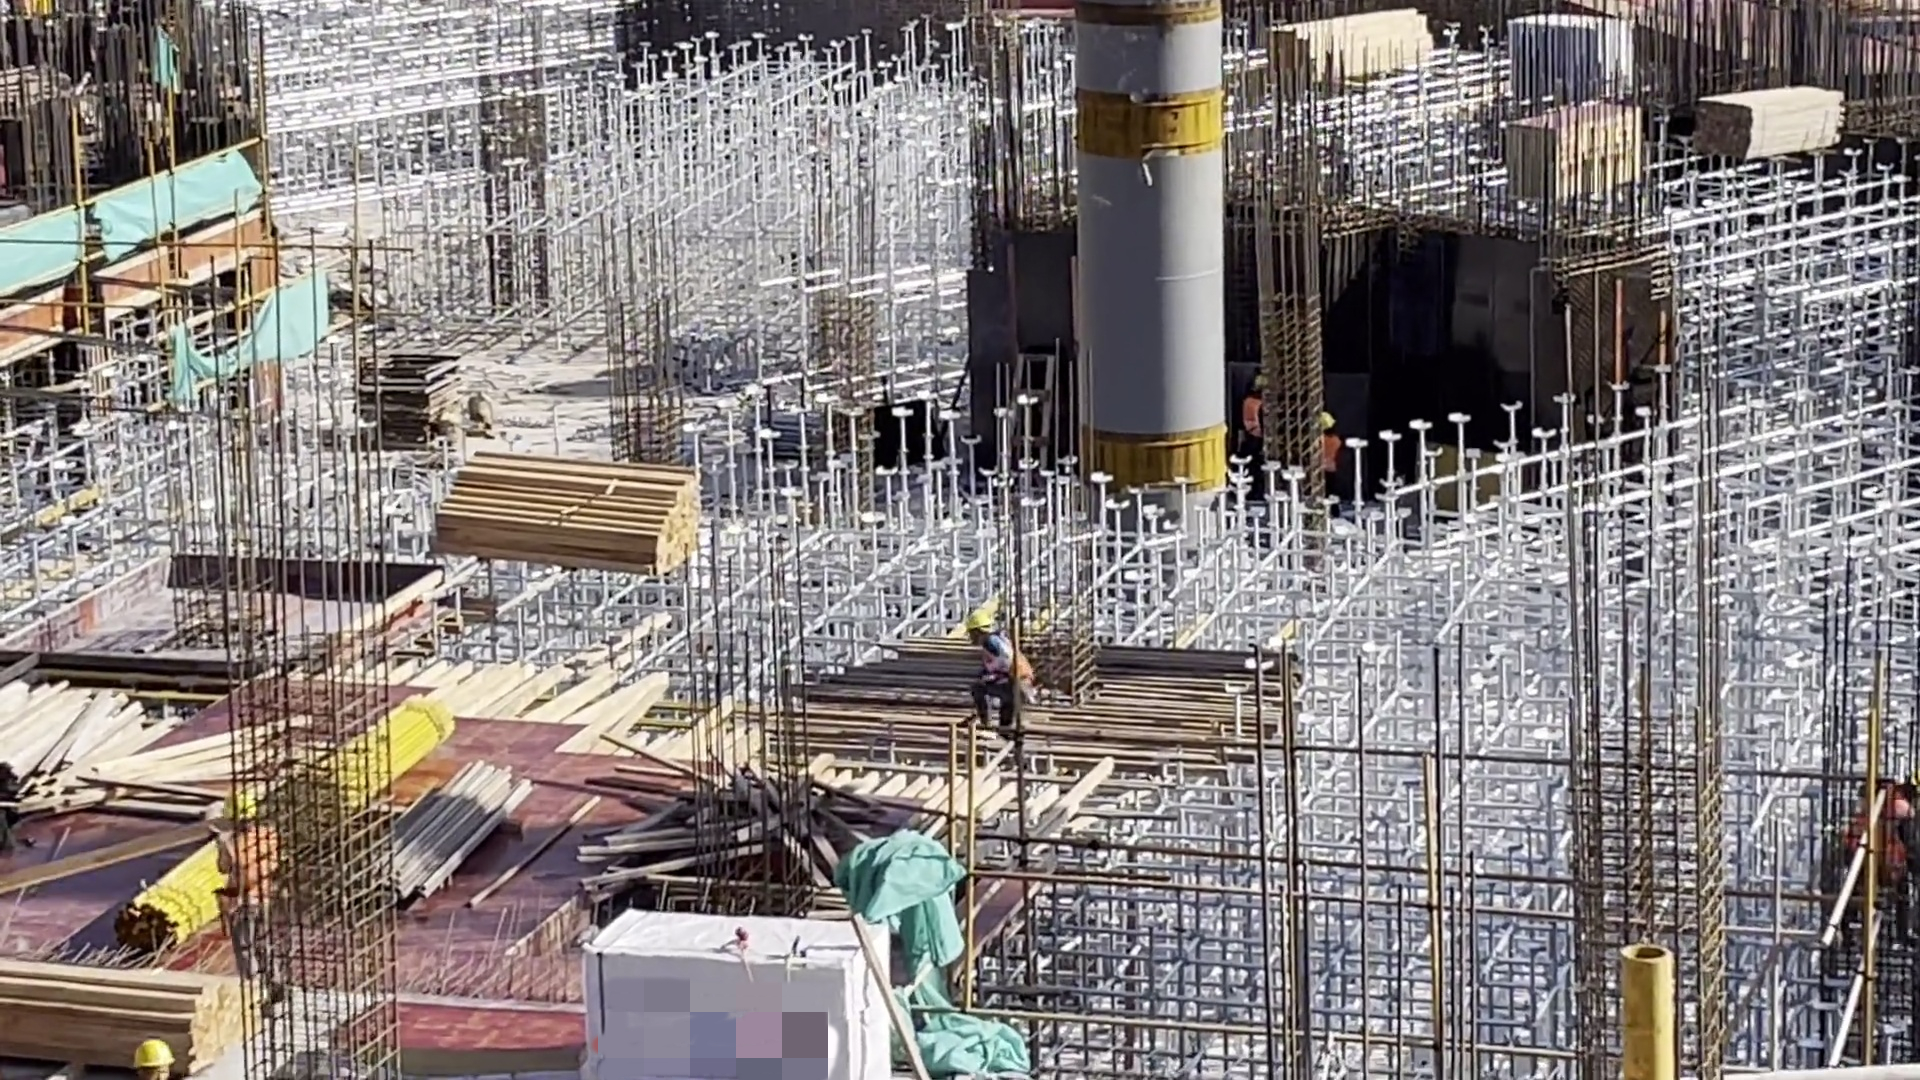helmet: (132, 1040, 173, 1067), (968, 610, 986, 628)
person: (951, 607, 1039, 722), (1308, 404, 1347, 510), (1243, 372, 1262, 460)
rebar: (789, 627, 1292, 768)
wood: (1, 681, 254, 827), (443, 453, 715, 569), (6, 958, 246, 1065), (396, 760, 515, 904), (1270, 10, 1442, 88), (1712, 81, 1840, 176), (1512, 106, 1636, 197)
